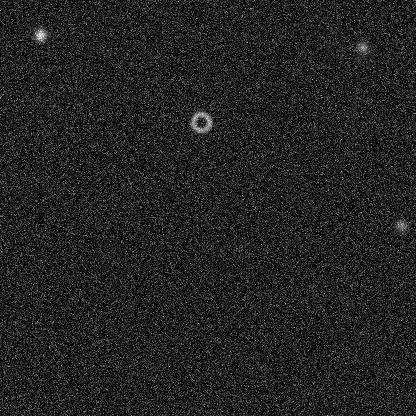Ring: (188, 110, 212, 134)
Spot: (392, 217, 408, 233), (354, 39, 370, 55), (32, 27, 48, 43)
